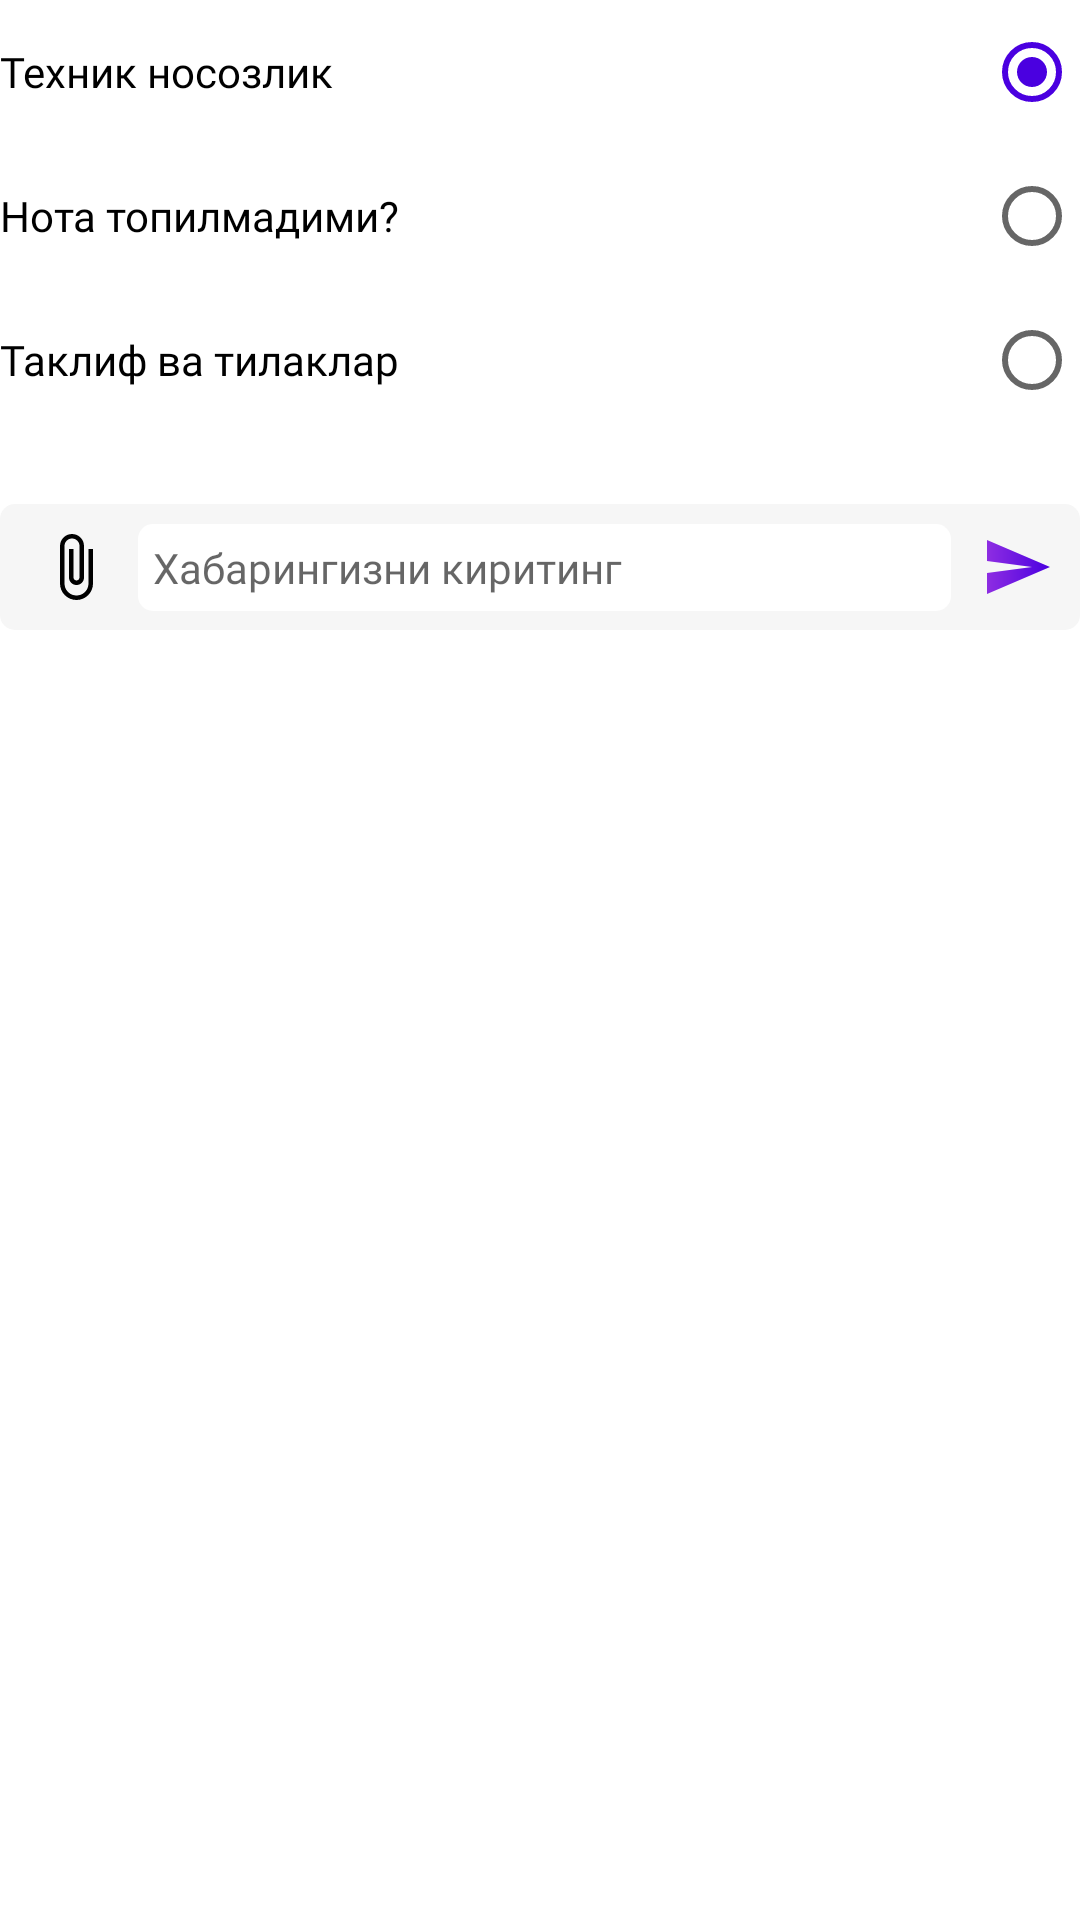

Where icons sit on this 1080px×1920px app screen, as (x1, y1, x2, y2):
clip: (60, 534, 93, 600)
send message: (987, 540, 1050, 594)
